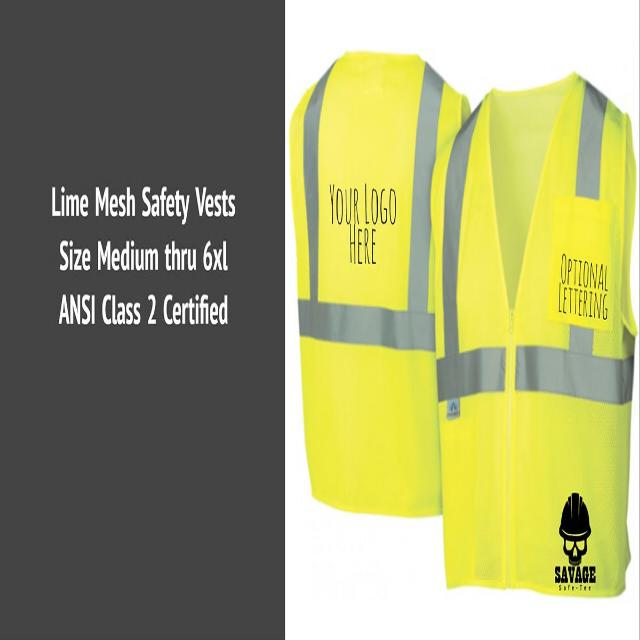Reflective-Jacket: (426, 67, 639, 615), (284, 43, 475, 529)
